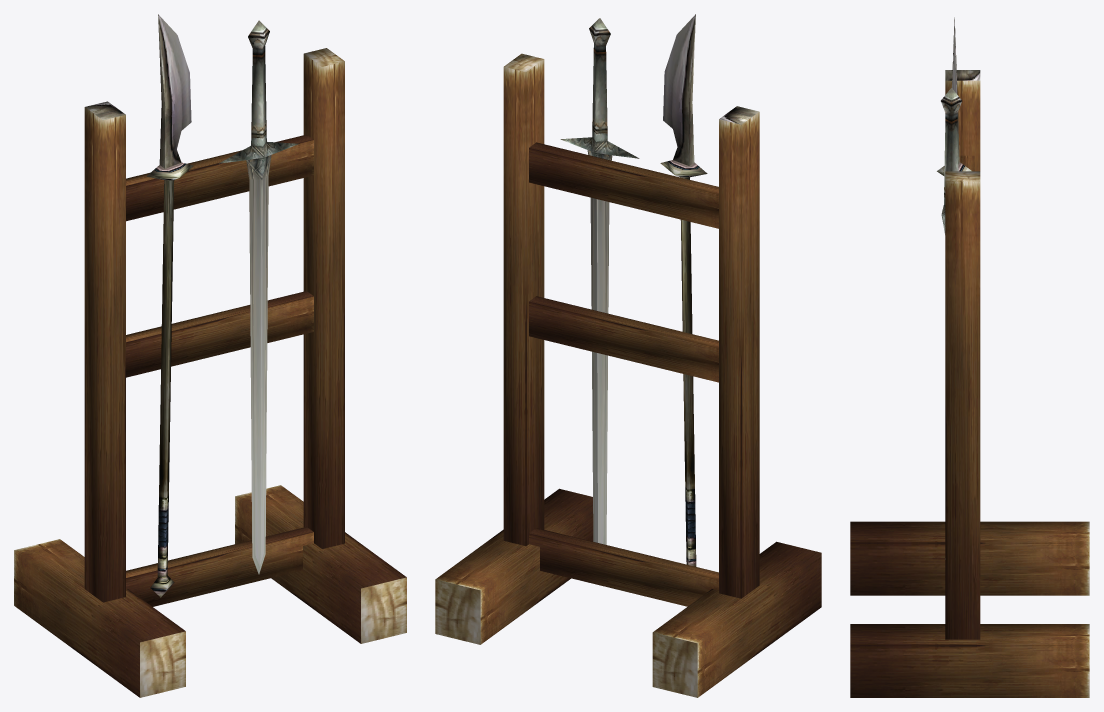
The model's file is generalweaponrack01.obj.
3 renders of one model, left to right at view 1: azimuth 30°, elevation 25°; view 2: azimuth 150°, elevation 25°; view 3: azimuth 270°, elevation 25°, orthographic. The views are drawn at different scales.
Visible parts, largest first — view 1: Geoset0, Geoset2, Geoset1; view 2: Geoset0, Geoset2, Geoset1; view 3: Geoset0, Geoset2, Geoset1.
Boxes of the visible parts, box(x1,y1,x2,y2) form: Geoset0: box(14, 48, 406, 697); Geoset2: box(219, 20, 299, 574); Geoset1: box(85, 14, 193, 597); Geoset0: box(435, 53, 821, 697); Geoset2: box(560, 18, 639, 544); Geoset1: box(660, 14, 758, 566); Geoset0: box(850, 80, 1089, 697); Geoset2: box(941, 88, 961, 234); Geoset1: box(937, 17, 980, 559).
Size of the model in its own units: 1.29 by 2.91 by 1.06.
Materials: 3 (3 with a texture image).
